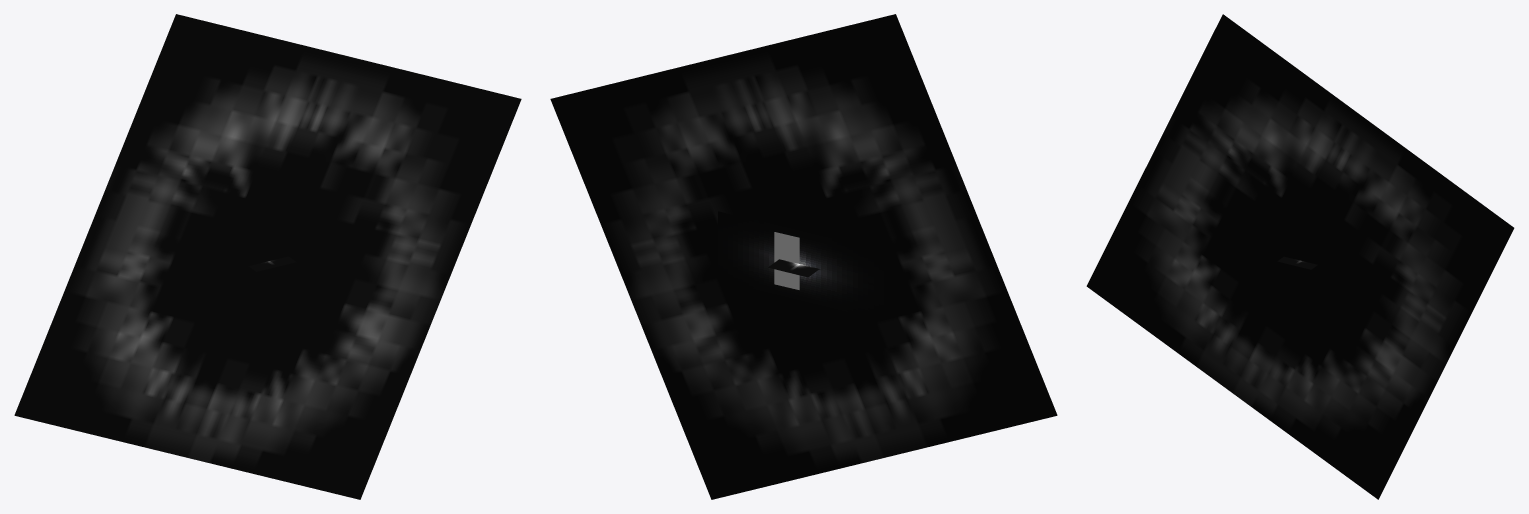
File: Ora_reliy_g0-1-2-3.fbx
The picture shows the model from 3 angles, left to right: view 1: azimuth 30°, elevation 25°; view 2: azimuth 150°, elevation 25°; view 3: azimuth 330°, elevation 25°; orthographic projection. The views are drawn at different scales.
Visible parts, largest first — view 1: Ora_reliy_g3_L0_add; view 2: Ora_reliy_g3_L0_add, Ora_reliy_g2_L0_add, Ora_reliy_g0_L0_add; view 3: Ora_reliy_g3_L0_add.
Boxes of the visible parts, <box> form: Ora_reliy_g3_L0_add: <box>14,14,521,499</box>; Ora_reliy_g3_L0_add: <box>550,14,1057,499</box>; Ora_reliy_g2_L0_add: <box>718,211,883,320</box>; Ora_reliy_g0_L0_add: <box>774,232,799,289</box>; Ora_reliy_g3_L0_add: <box>1086,14,1514,499</box>.
Size of the model in its own units: 4.94 by 4.94 by 0.3937.
